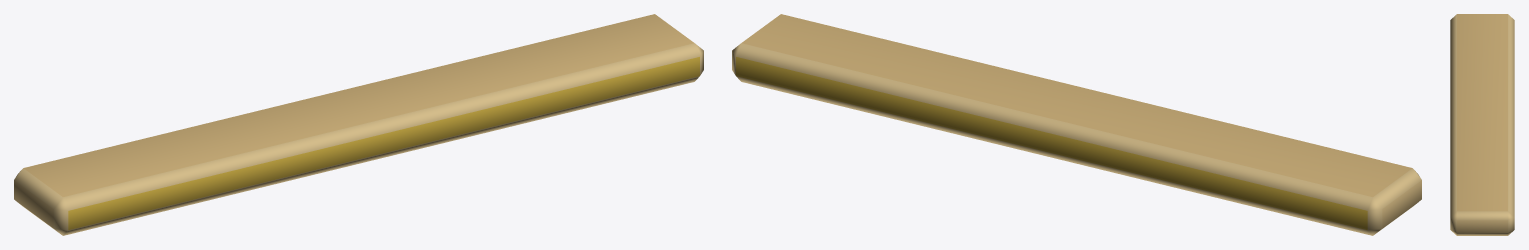
Rendered from RailingA.glb.
3 views of the same model, side by side, from view 1: azimuth 30°, elevation 25°; view 2: azimuth 150°, elevation 25°; view 3: azimuth 270°, elevation 25° (orthographic). The views are drawn at different scales.
Parts seen in each view (by area): view 1: RailingA; view 2: RailingA; view 3: RailingA.
Boxes of the visible parts, x1,y1,x2,y2 form: RailingA: (14,14,703,235); RailingA: (732,14,1421,235); RailingA: (1450,14,1514,235).
Bounding box in the file's own units: 1.32 × 0.0752 × 0.1776.
